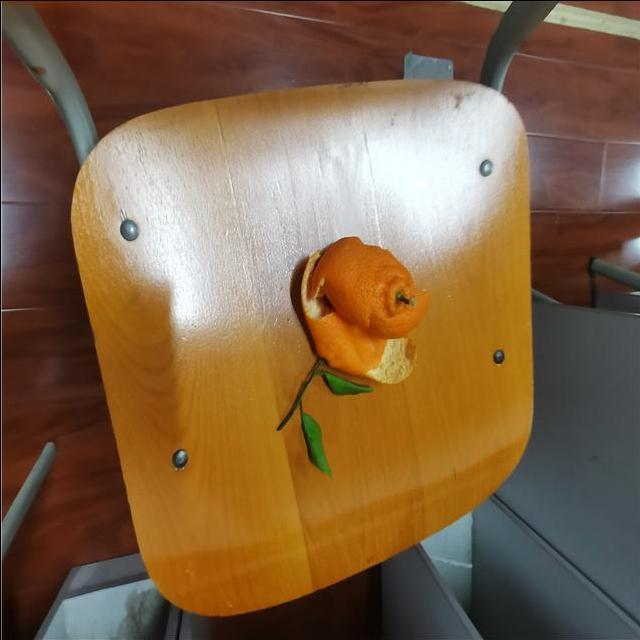orange peel: (287, 226, 430, 390)
